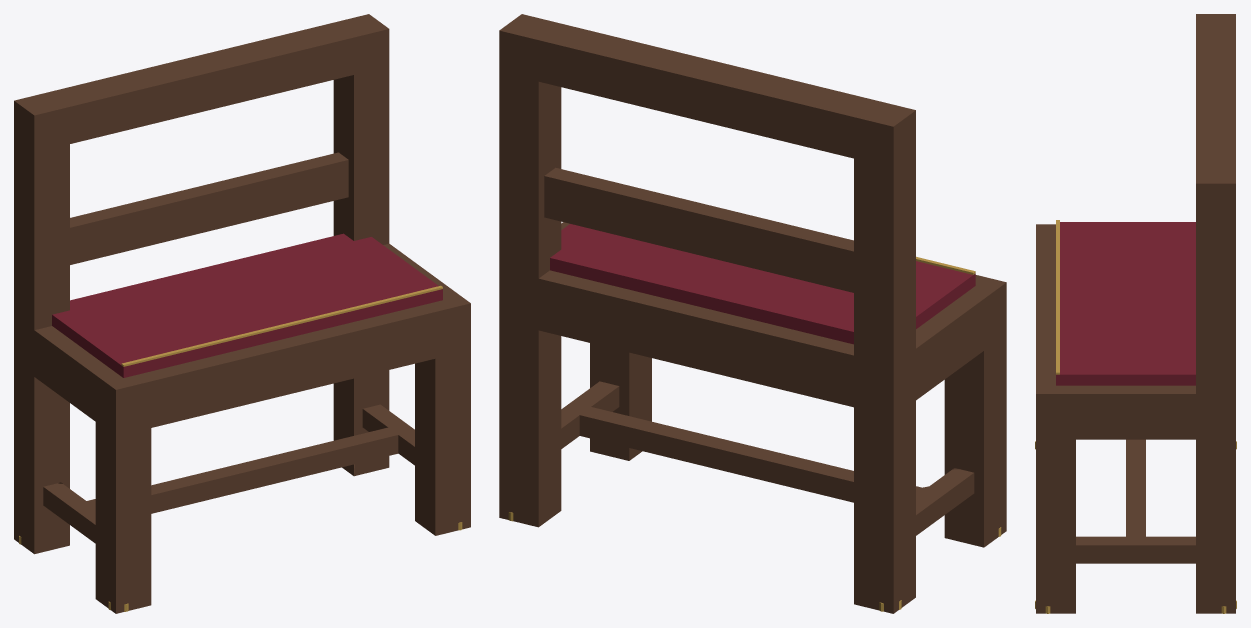
File: bench.glb
The picture shows the model from 3 angles, left to right: view 1: azimuth 30°, elevation 25°; view 2: azimuth 150°, elevation 25°; view 3: azimuth 270°, elevation 25°; orthographic projection. The views are drawn at different scales.
Parts seen in each view (by area): view 1: bench(Clone); view 2: bench(Clone); view 3: bench(Clone).
Part boxes in pixels (<box>): bench(Clone): <box>14,14,470,613</box>; bench(Clone): <box>499,14,1006,613</box>; bench(Clone): <box>1035,14,1236,613</box>.
Bounding box in the file's own units: 0.4 × 0.47 × 0.2.
